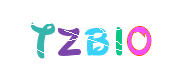0: (98, 0, 178, 80)
B: (52, 0, 132, 80)
I: (97, 0, 177, 80)
T: (29, 0, 109, 80)
Z: (40, 0, 120, 80)
